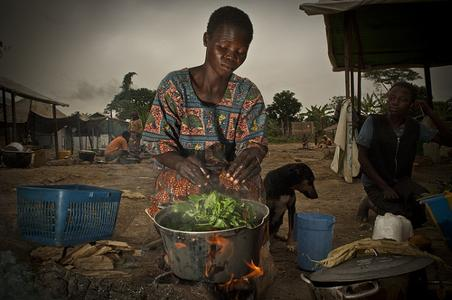person: (138, 6, 269, 217)
